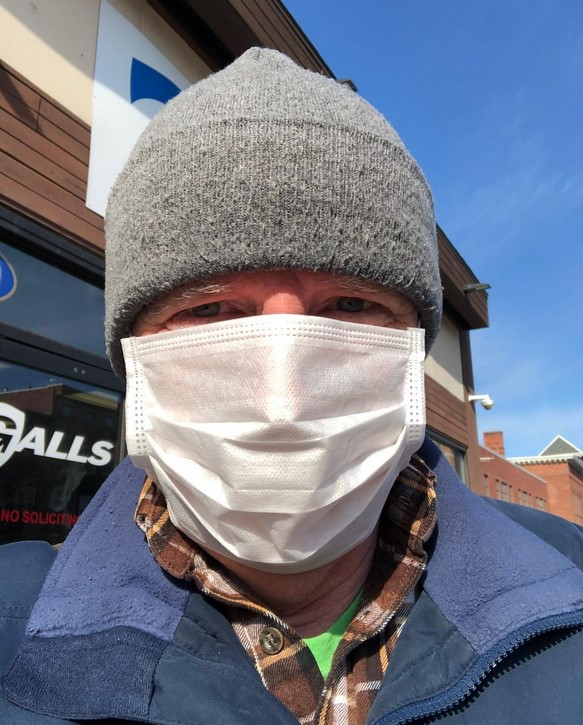face_with_mask: (104, 46, 444, 583)
